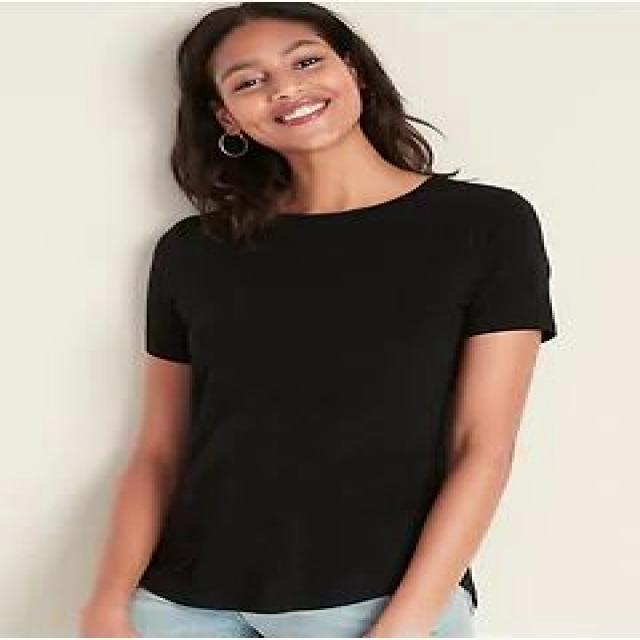shoulder: (144, 182, 546, 276)
